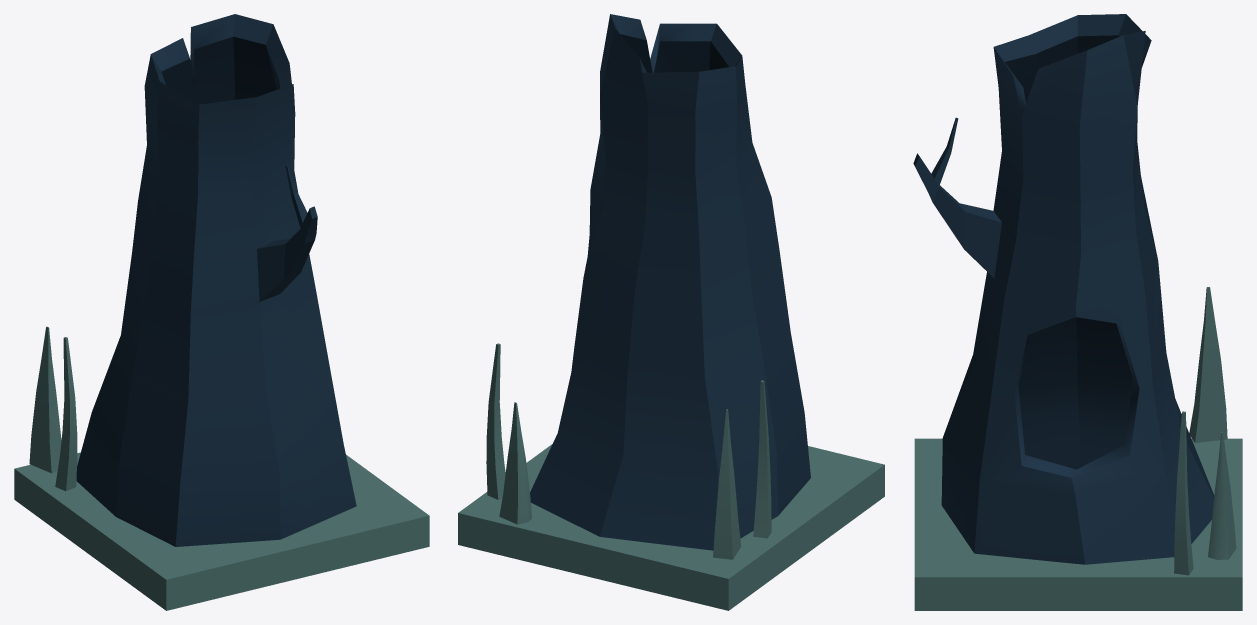
Rendered from ASSET_ENV_cachette.fbx.
The picture shows the model from 3 angles, left to right: view 1: azimuth 30°, elevation 25°; view 2: azimuth 150°, elevation 25°; view 3: azimuth 270°, elevation 25°; orthographic projection. The views are drawn at different scales.
Parts seen in each view (by area): view 1: CACHETTE; view 2: CACHETTE; view 3: CACHETTE.
Boxes of the visible parts, x1,y1,x2,y2 form: CACHETTE: (14,14,429,610); CACHETTE: (458,14,884,610); CACHETTE: (913,14,1242,610).
Size of the model in its own units: 1.01 by 1.78 by 1.01.
